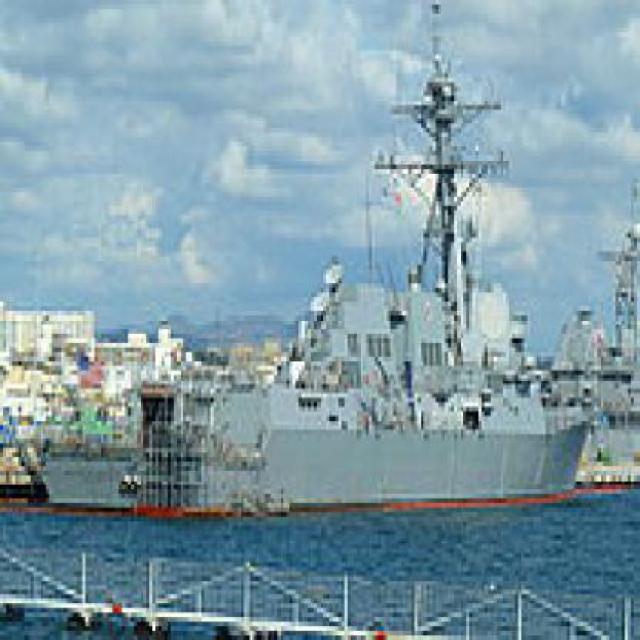warship2: (28, 1, 592, 546)
